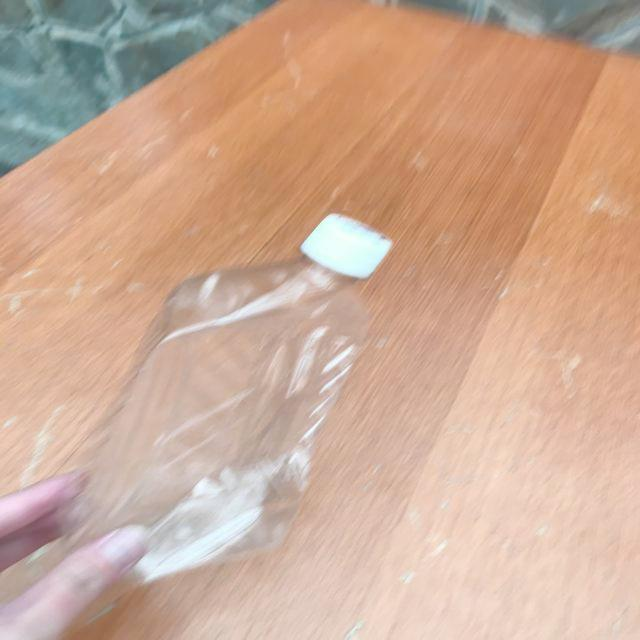bottle: (61, 213, 392, 590)
